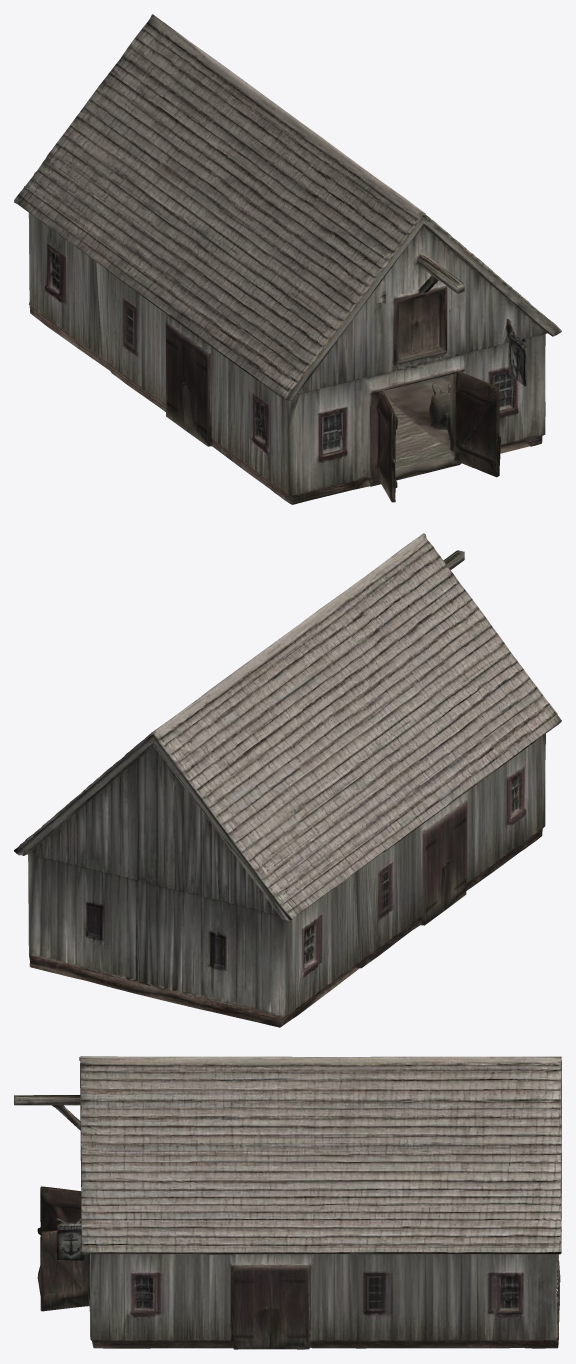
The model's file is bldg-warehouse-street.glb.
The picture shows the model from 3 angles, top to bottom: view 1: azimuth 30°, elevation 25°; view 2: azimuth 150°, elevation 25°; view 3: azimuth 270°, elevation 25°; orthographic projection. The views are drawn at different scales.
Visible parts, largest first — view 1: Mesh_0; view 2: Mesh_0; view 3: Mesh_0.
Boxes of the visible parts, x1,y1,x2,y2 form: Mesh_0: (14,14,561,504); Mesh_0: (14,533,561,1027); Mesh_0: (14,1056,561,1349).
Size of the model in its own units: 0.99 by 0.9081 by 1.9.
1 material, 1 textured.
